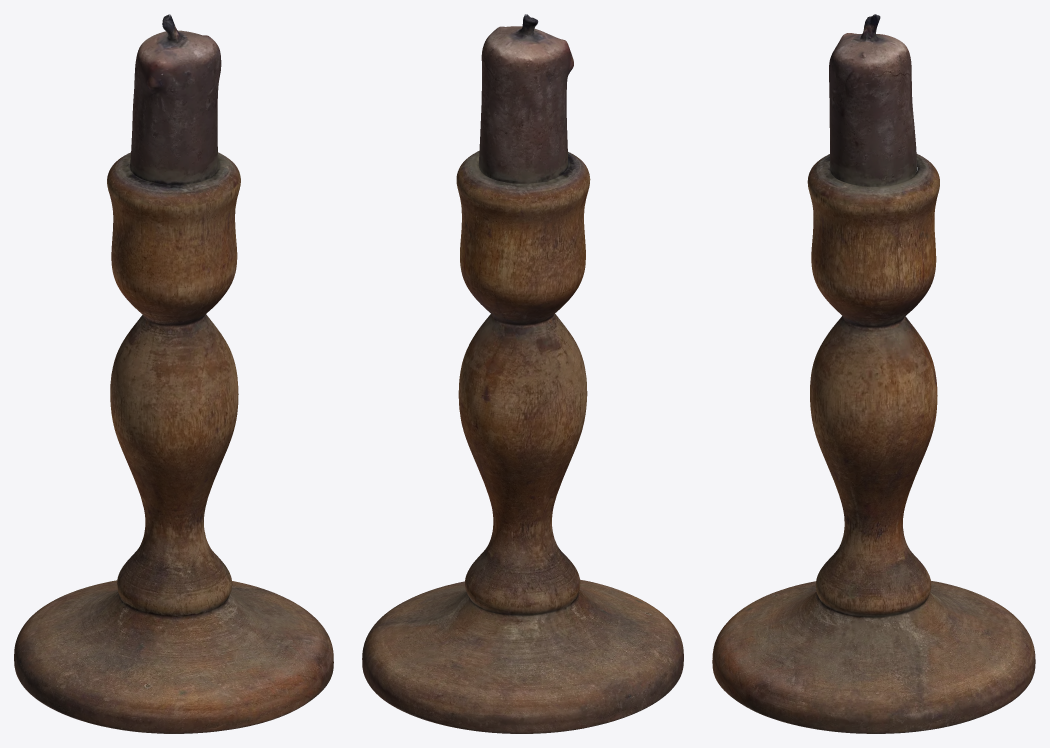
The model's file is wooden_candlestick.glb.
The picture shows the model from 3 angles, left to right: view 1: azimuth 30°, elevation 25°; view 2: azimuth 150°, elevation 25°; view 3: azimuth 270°, elevation 25°; orthographic projection.
Parts seen in each view (by area): view 1: wooden_candlestick; view 2: wooden_candlestick; view 3: wooden_candlestick.
Boxes of the visible parts, x1=… form: wooden_candlestick: x1=14, y1=14, x2=333, y2=733; wooden_candlestick: x1=362, y1=14, x2=683, y2=733; wooden_candlestick: x1=712, y1=14, x2=1035, y2=733.
Size of the model in its own units: 0.0972 by 0.2197 by 0.0987.
Materials: 1 (1 with a texture image).
